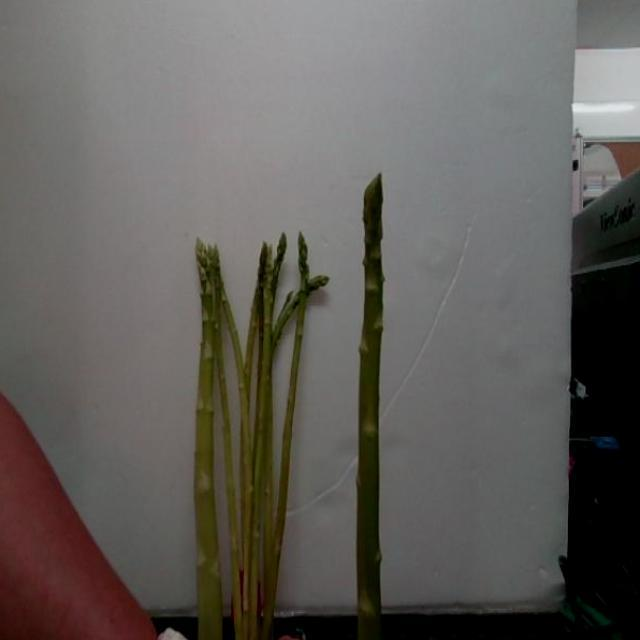aspargus: (263, 233, 310, 639), (357, 175, 386, 640)
